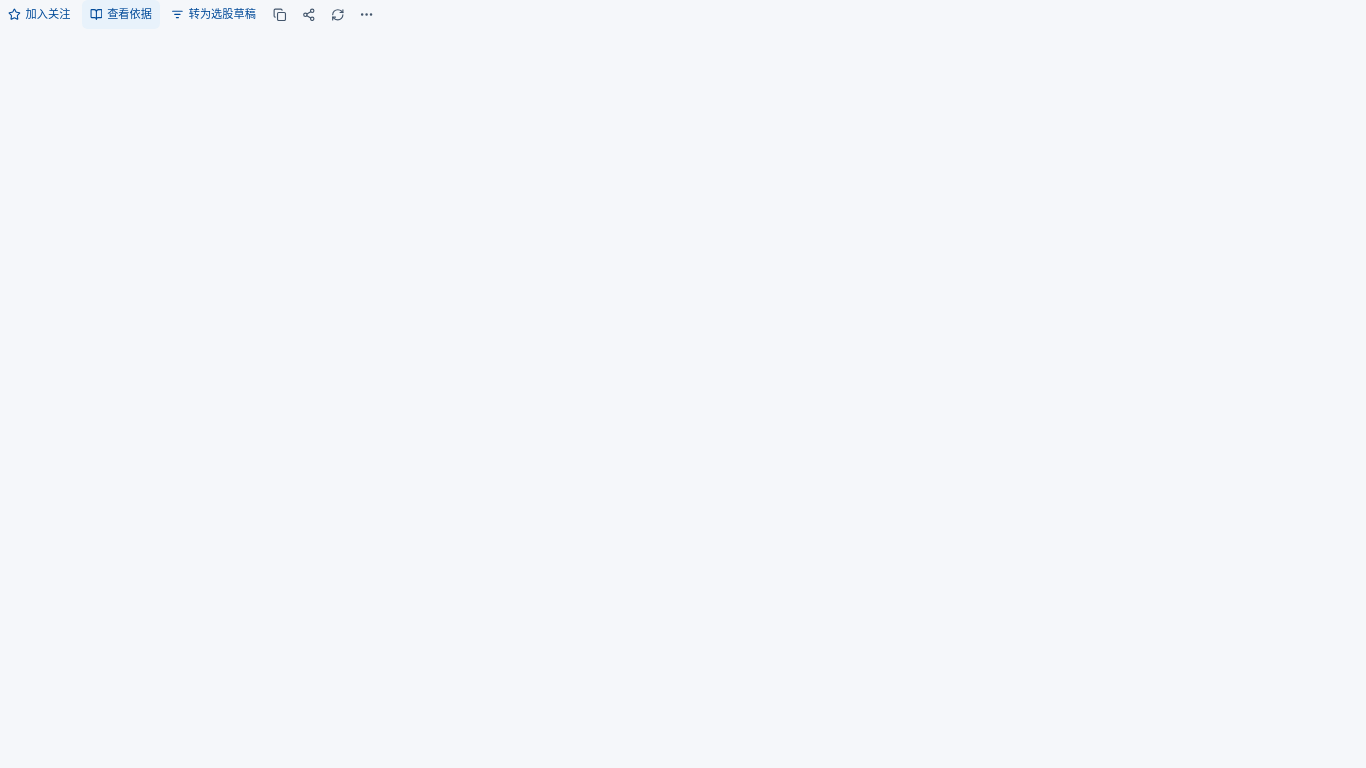
Test: keeps the create result when the share dialog is closed and reopened during a write
Click the button named "分享答复" at (309, 14), box 296,2 -> 321,27
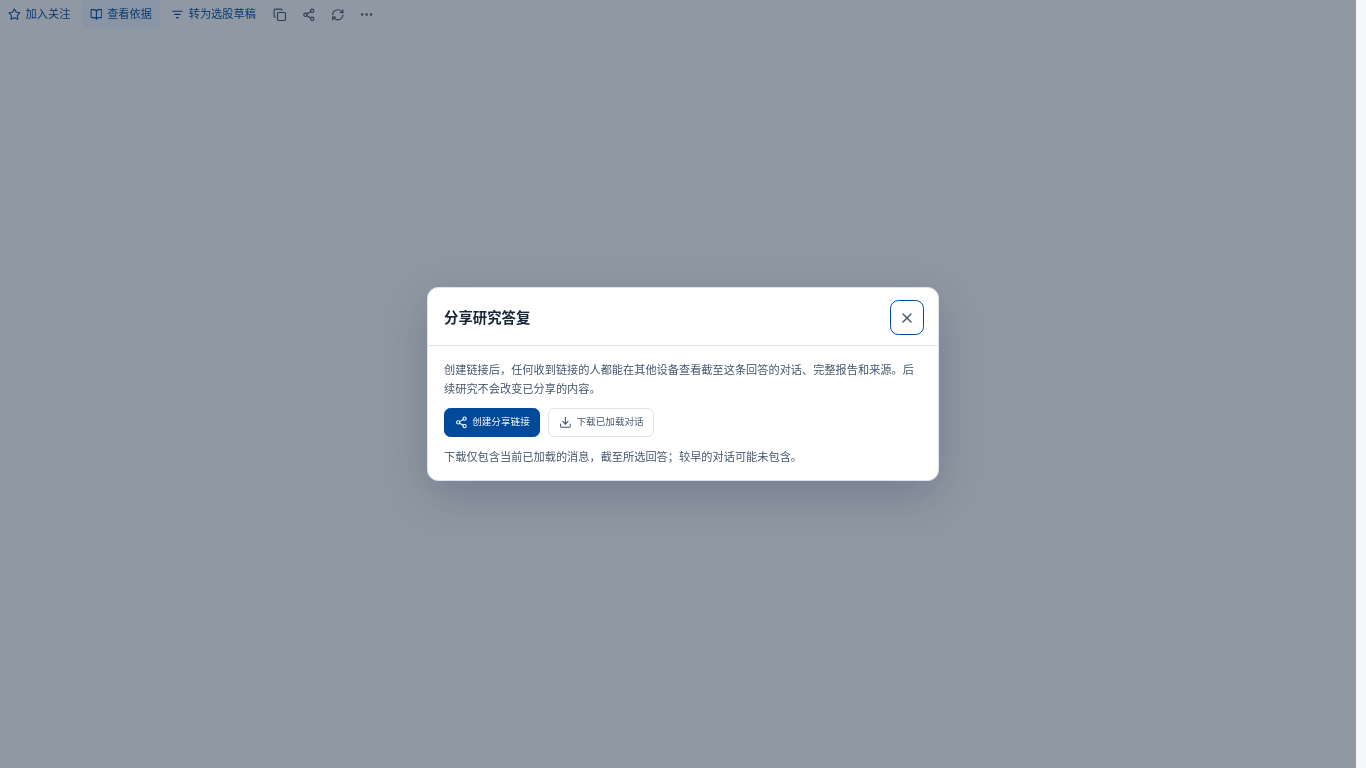
Expected: the button "创建分享链接" is enabled
Click the button "创建分享链接" at (492, 422), box 444,408 -> 540,437
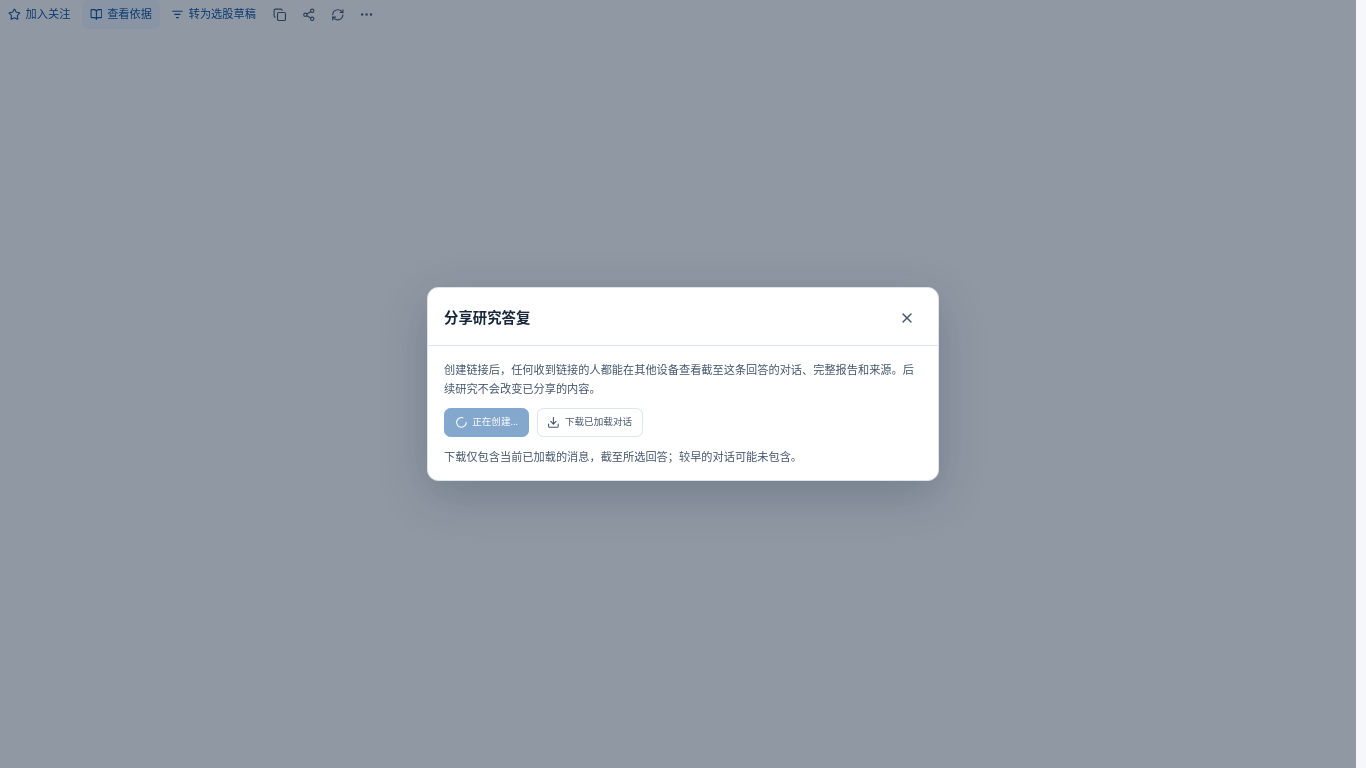
Click the button named "关闭分享" at (907, 318), box 892,302 -> 922,333
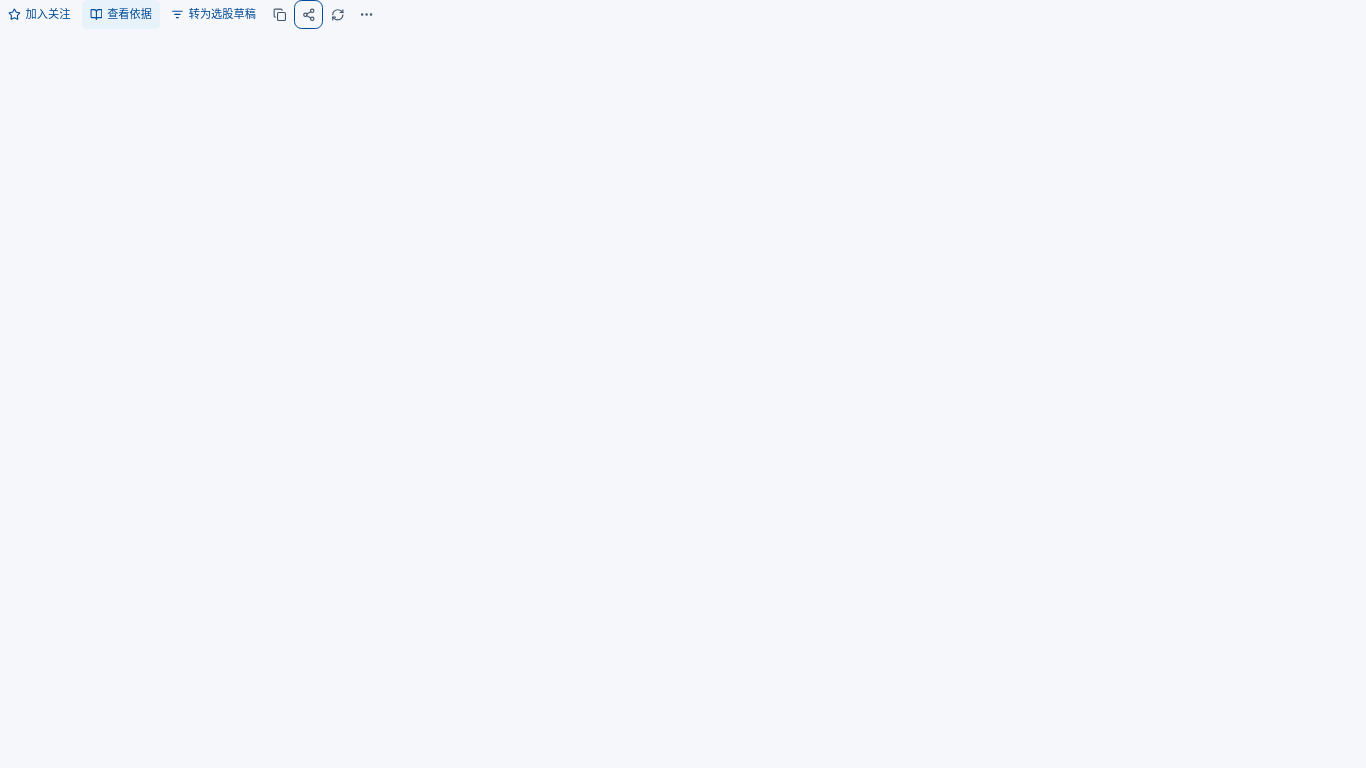
Click the button named "分享答复" at (309, 14), box 296,2 -> 321,27
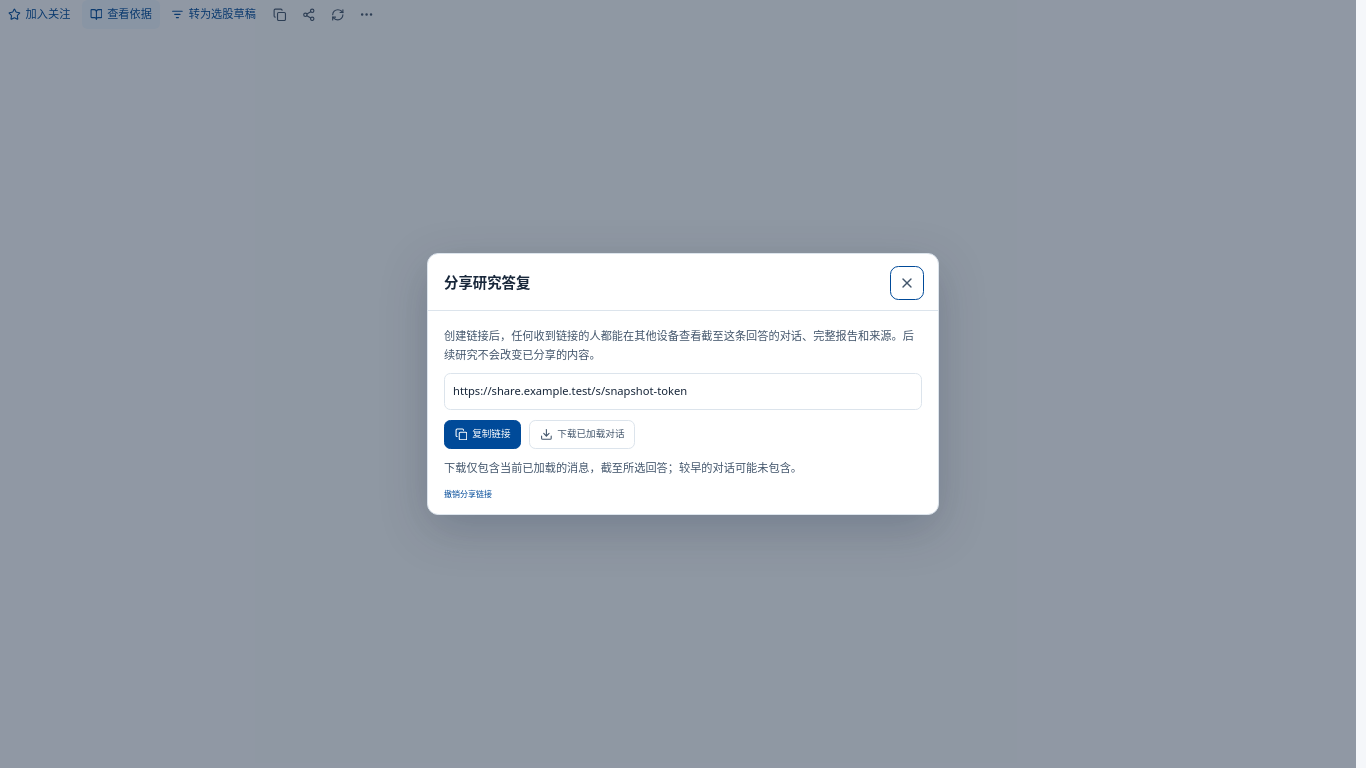
Expected: the field named "研究对话分享链接" holds "https://share.example.test/s/snapshot-token", 444,374 -> 922,410
